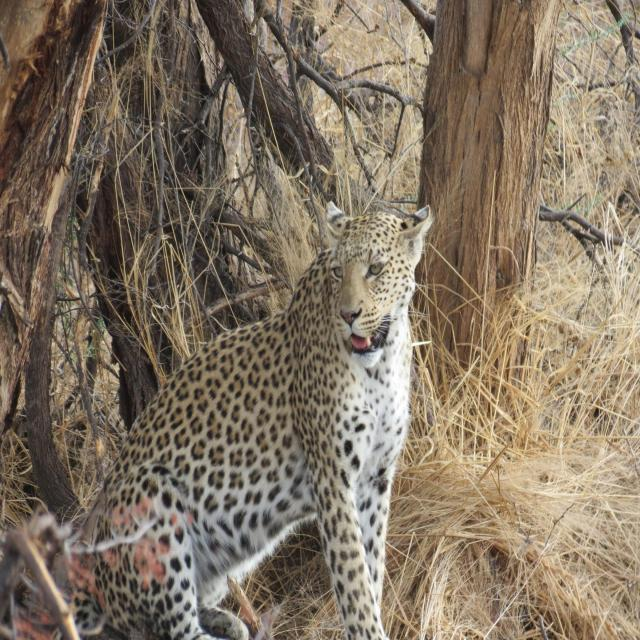Leopard: (26, 196, 438, 640)
